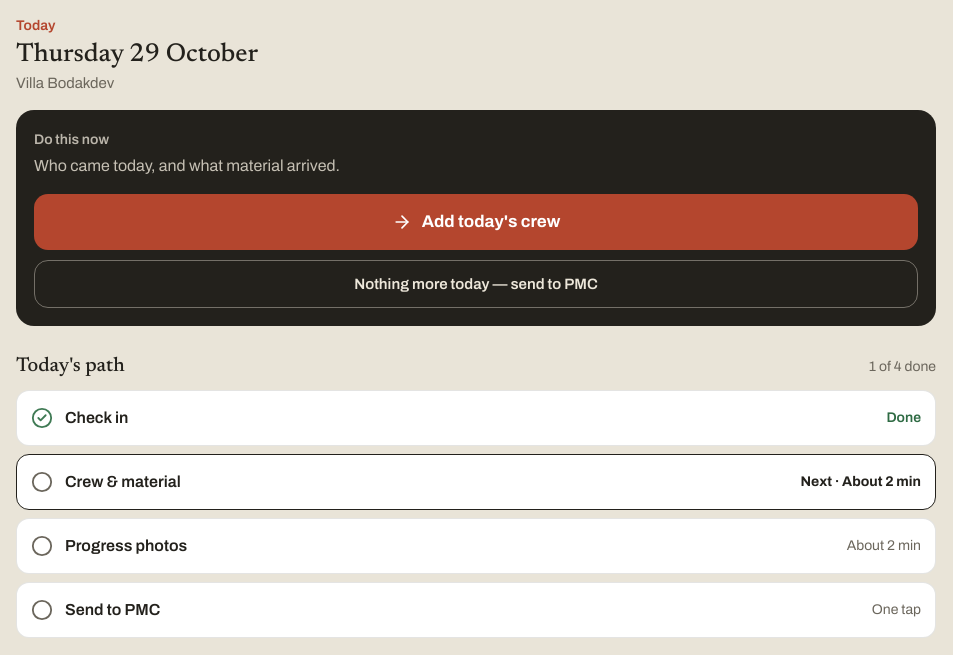
Test: U1 — the crew step, one trade at a time › Back returns to Today and changes nothing
Click the button with test id "today-action": click(476, 222) x1=34 y1=194 x2=918 y2=250
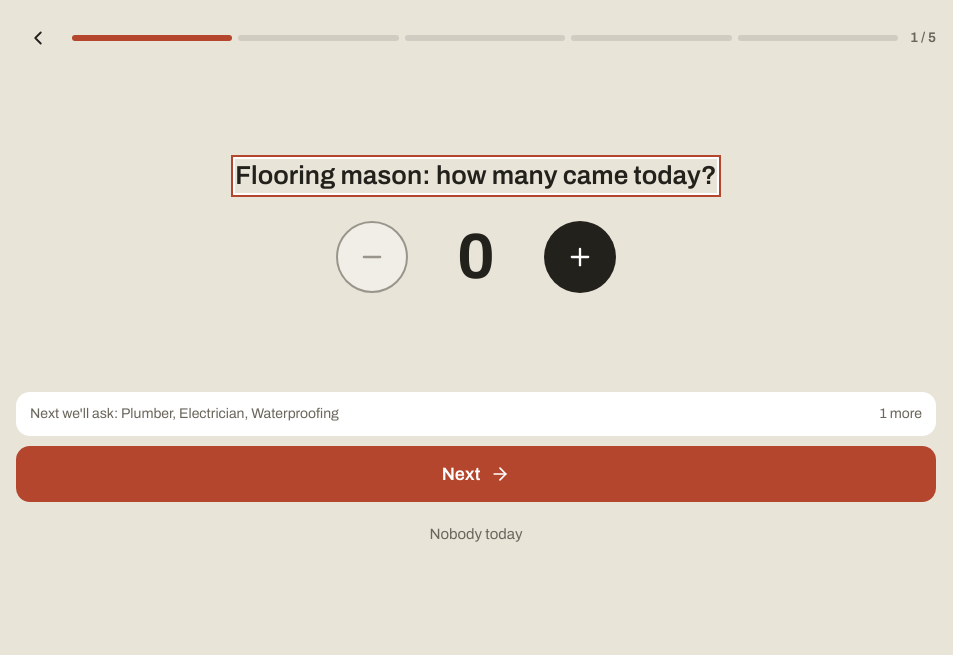
Click the button with test id "crew-back": click(38, 38) x1=16 y1=16 x2=60 y2=60
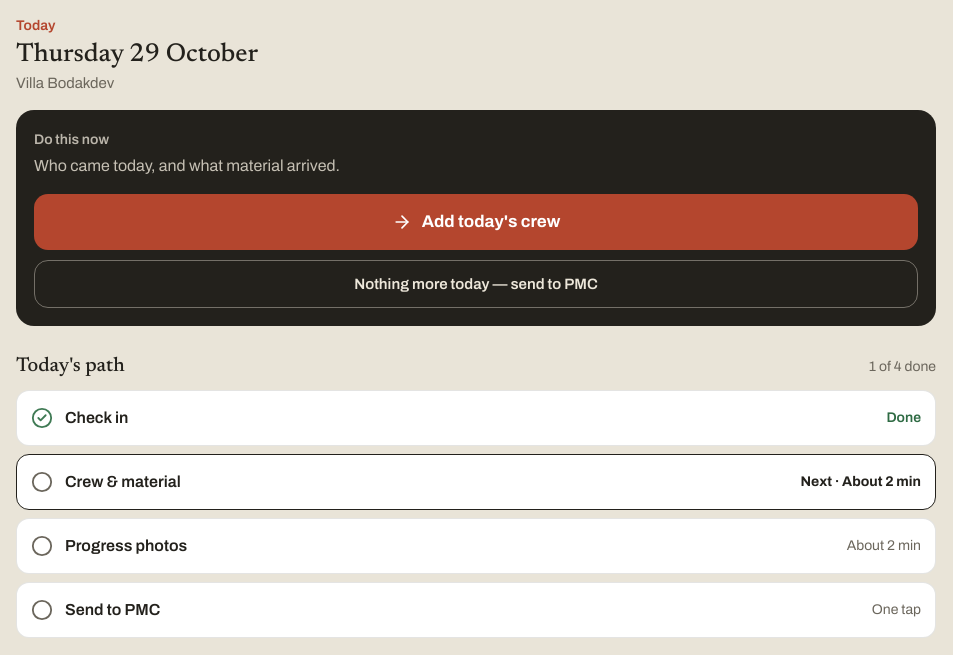
Now the element with test id "engineer-today" is shown
